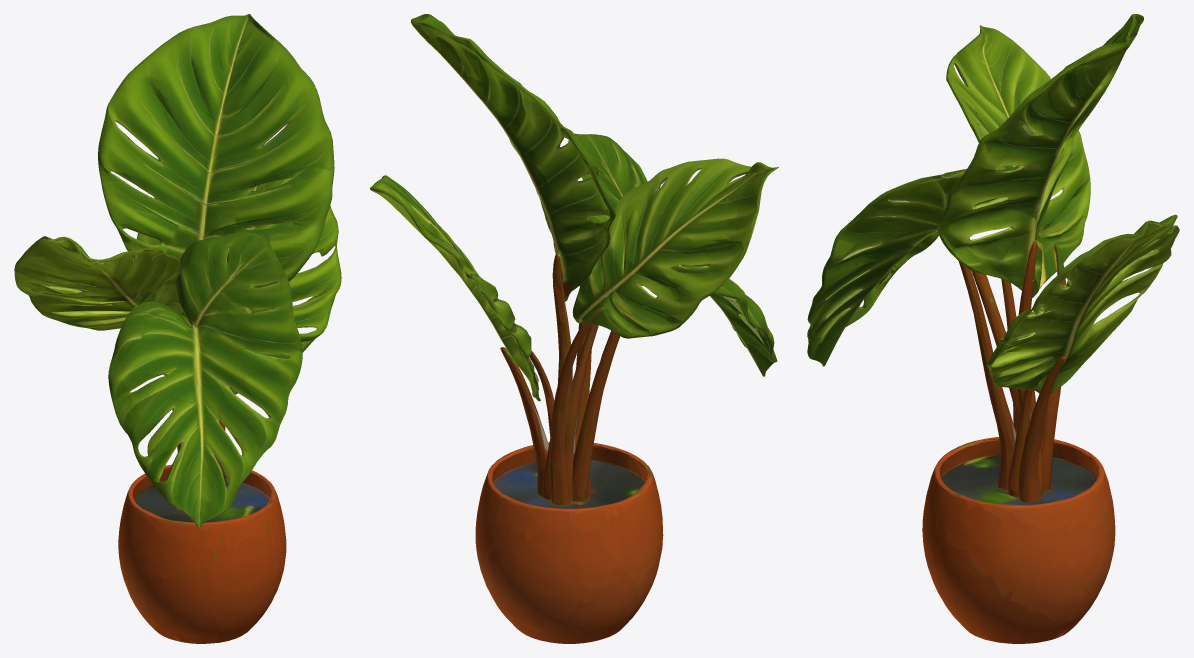
The model's file is plant_monstera.glb.
The picture shows the model from 3 angles, left to right: view 1: azimuth 30°, elevation 25°; view 2: azimuth 150°, elevation 25°; view 3: azimuth 270°, elevation 25°; orthographic projection. The views are drawn at different scales.
Size of the model in its own units: 1.15 by 1.9 by 1.02.
Materials: 1 (1 with a texture image).
